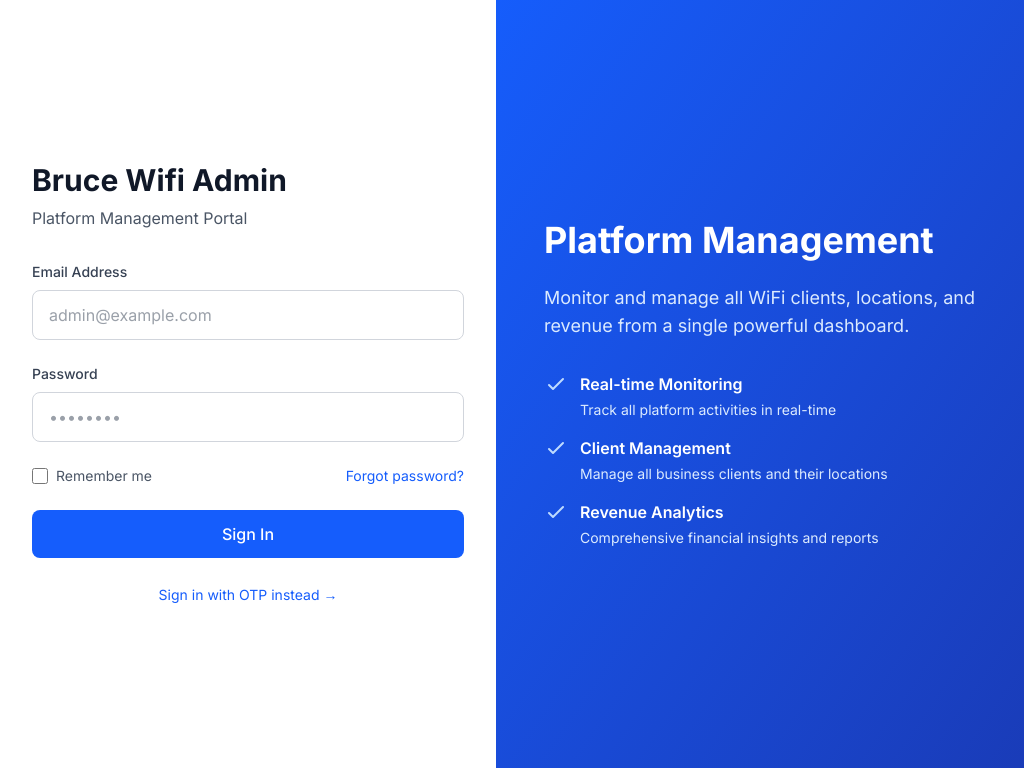
Test case: LoginPage › shows an error on unexpected exception
The width and height of the screenshot is (1024, 768).
Type "a@b.com" into the field labelled "Email Address" at [248, 315], box left=32, top=290, right=464, bottom=340
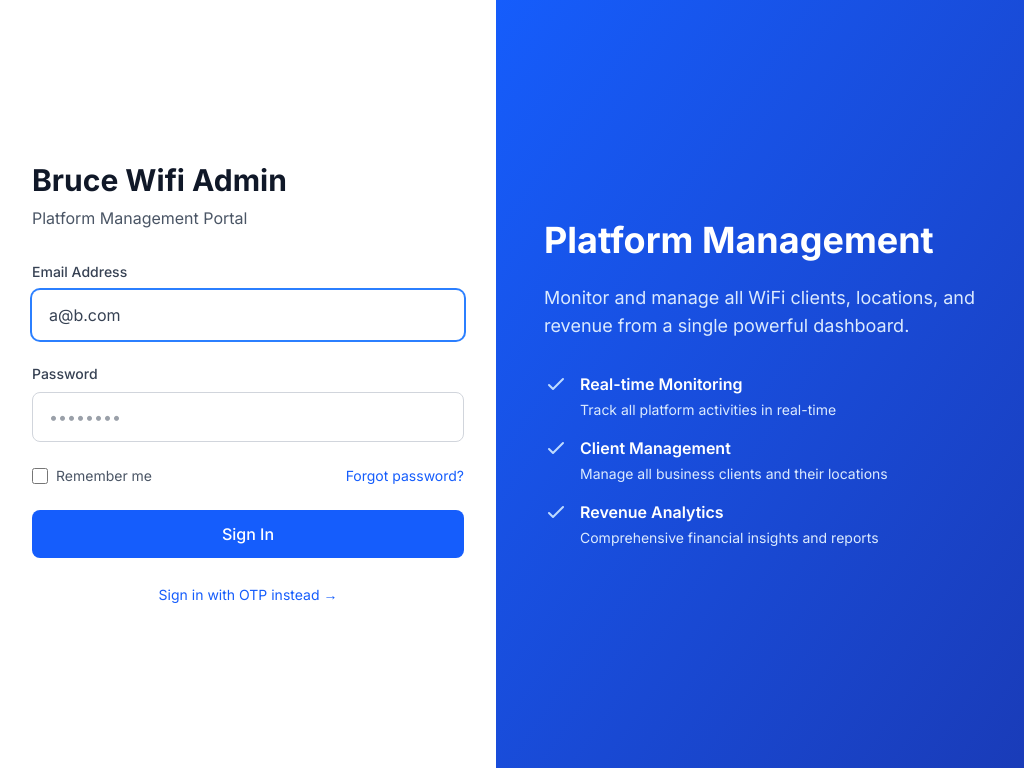
Type "pass" into the password field labelled "Password" at [248, 417], box left=32, top=392, right=464, bottom=442
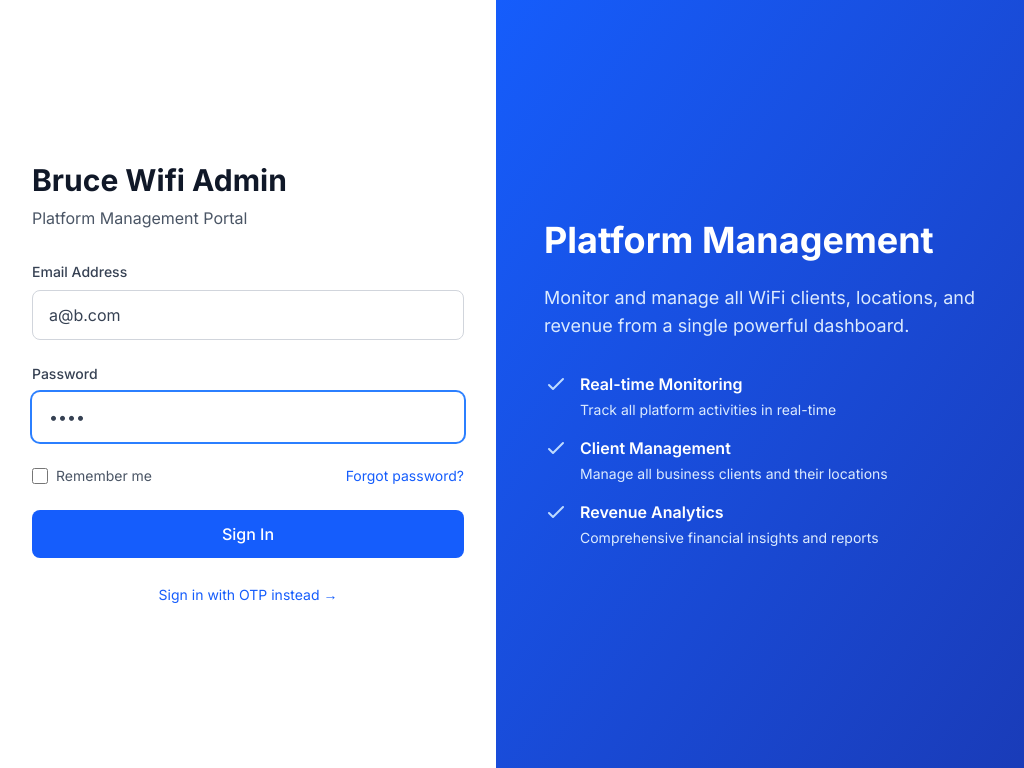
Click the button "Sign In" at [248, 534], box left=32, top=510, right=464, bottom=558
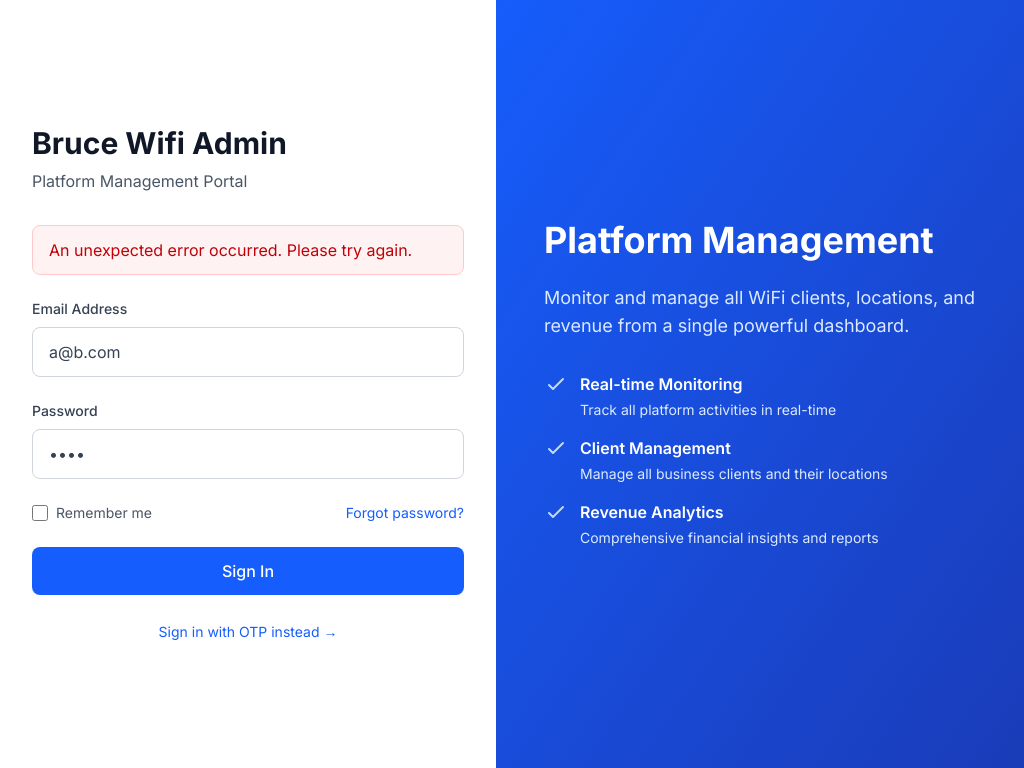
expect the text "An unexpected error occurred. Please try again." is shown: met, box left=32, top=225, right=464, bottom=275
